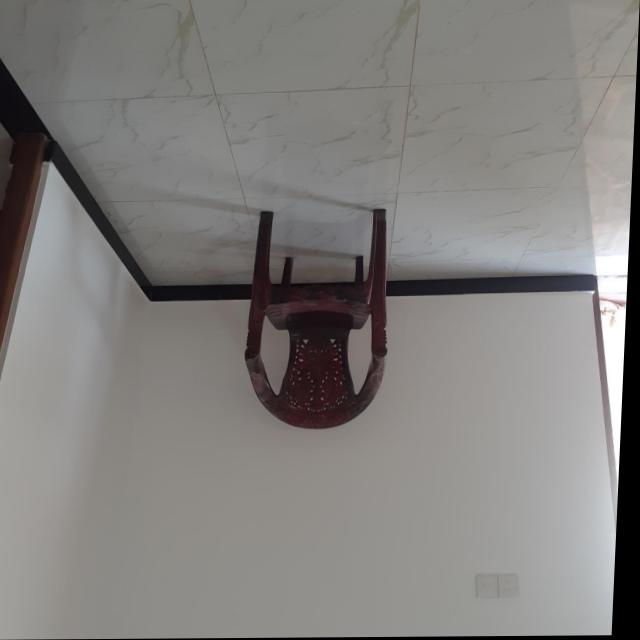Chair: (244, 206, 395, 432)
